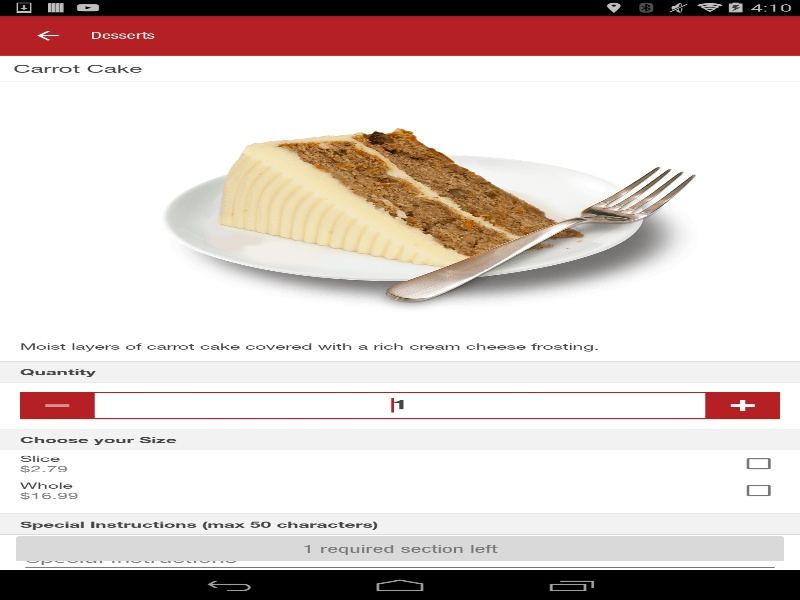Button: (10, 532, 789, 565), (10, 18, 85, 53), (20, 391, 92, 419), (708, 391, 780, 419)
Input: (20, 544, 780, 572), (92, 391, 708, 419)
